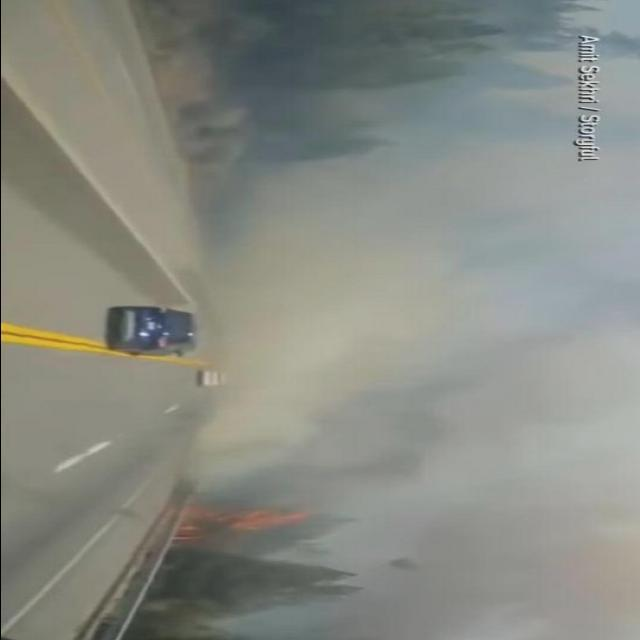Fire: (172, 505, 310, 541)
